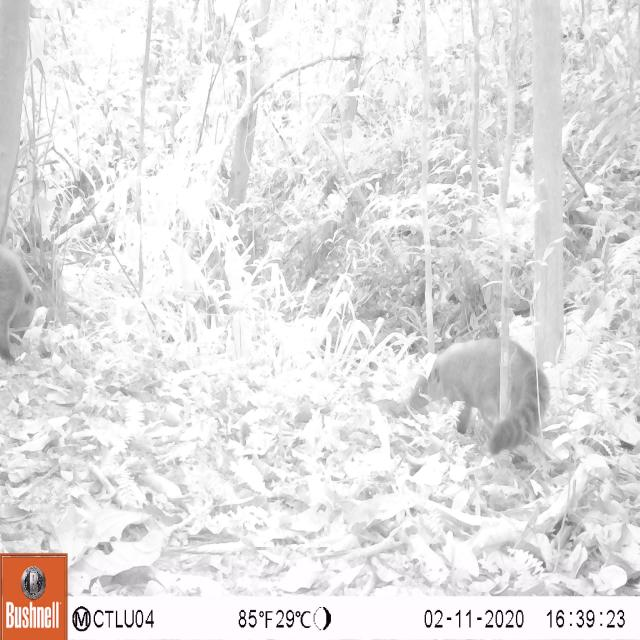South American Coati: (382, 325, 558, 463)
